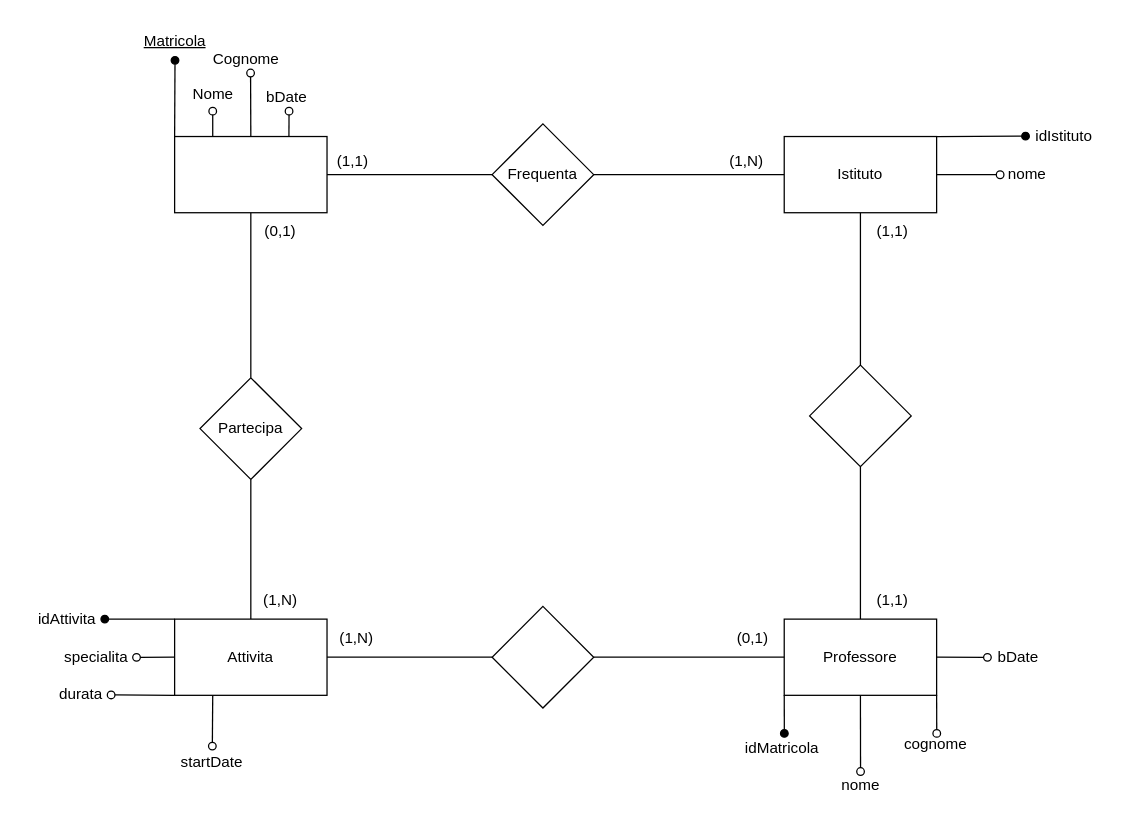
Some shapes in this 1129 by 826 pixel diagram are drawn without their labels. Each missing label, with the centre of its shape:
Indica: [859,415]
Segue: [542,656]
Studente: [250,174]
